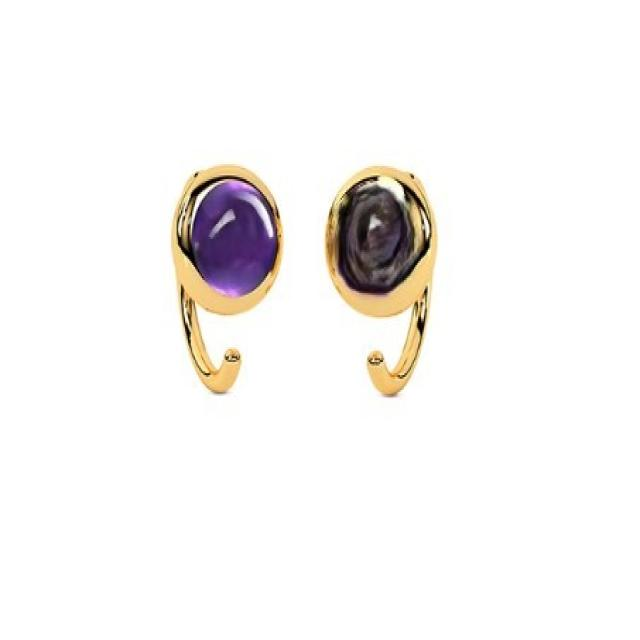missing gem: (331, 173, 432, 293)
